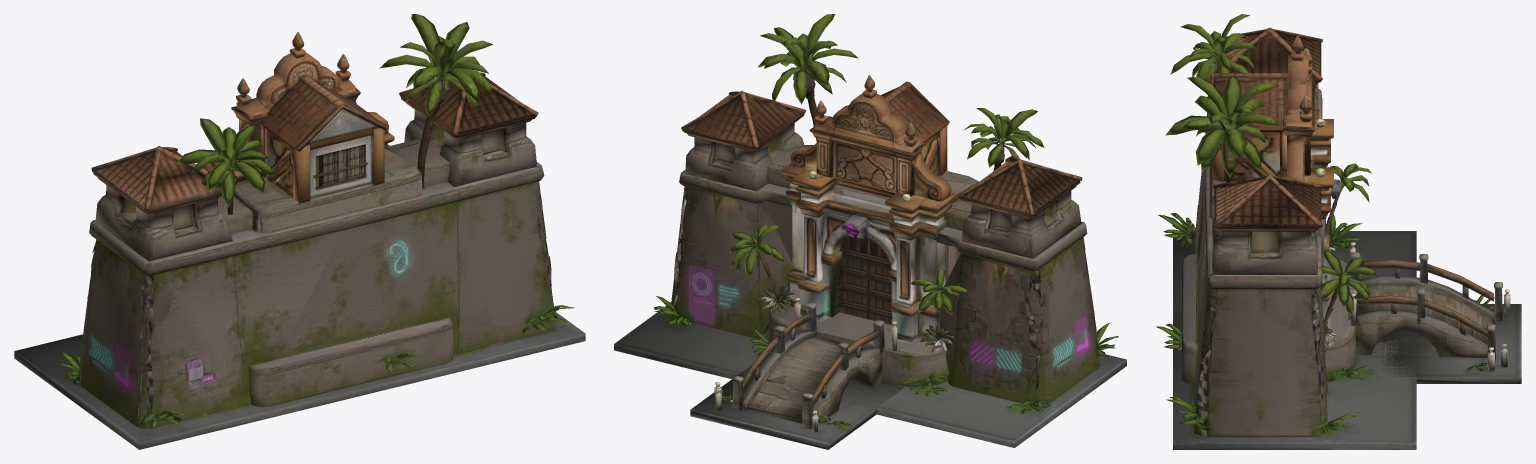
The model's file is lm_intramuros.glb.
3 views of the same model, side by side, from view 1: azimuth 30°, elevation 25°; view 2: azimuth 150°, elevation 25°; view 3: azimuth 270°, elevation 25° (orthographic). The views are drawn at different scales.
Parts seen in each view (by area): view 1: Body; view 2: Body; view 3: Body.
Part boxes in pixels (x1,y1,x2,y2): Body: (14, 14, 585, 449); Body: (614, 14, 1126, 449); Body: (1156, 14, 1521, 449).
Bounding box in the file's own units: 30 × 20.72 × 21.9.
Materials: 1 (1 with a texture image).
